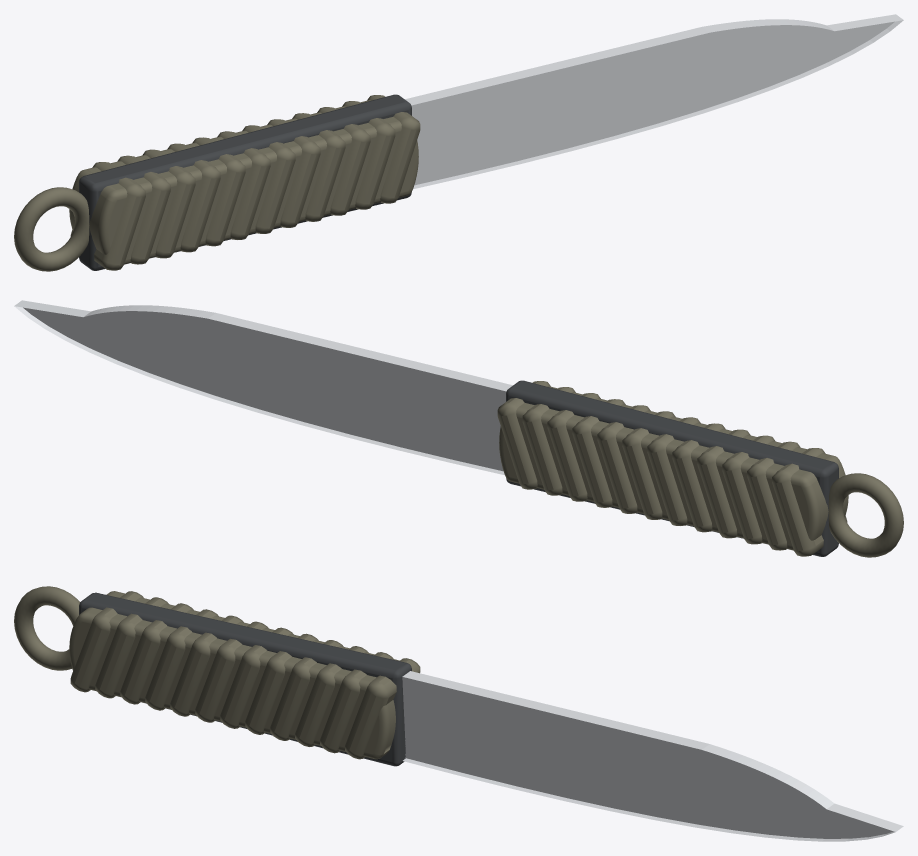
The model's file is knife_cord.glb.
The picture shows the model from 3 angles, top to bottom: view 1: azimuth 30°, elevation 25°; view 2: azimuth 150°, elevation 25°; view 3: azimuth 330°, elevation 25°; orthographic projection.
Parts seen in each view (by area): view 1: blade, handle, tang, lanyard, wrap0, wrap1, wrap2, wrap3, wrap4, wrap5, wrap6, wrap7 (+4 smaller); view 2: blade, handle, tang, lanyard, wrap0, wrap1, wrap2, wrap3, wrap4, wrap5, wrap6, wrap7 (+4 smaller); view 3: blade, handle, tang, lanyard, wrap11, wrap0, wrap1, wrap2, wrap3, wrap4, wrap5, wrap6 (+4 smaller).
Boxes of the visible parts, x1=… form: blade: x1=405, y1=14, x2=903, y2=189; handle: x1=69, y1=100, x2=418, y2=264; tang: x1=79, y1=94, x2=411, y2=270; lanyard: x1=14, y1=187, x2=89, y2=271; wrap0: x1=70, y1=162, x2=145, y2=270; wrap1: x1=117, y1=155, x2=170, y2=264; wrap2: x1=142, y1=149, x2=195, y2=258; wrap3: x1=167, y1=143, x2=220, y2=252; wrap4: x1=192, y1=137, x2=245, y2=246; wrap5: x1=217, y1=131, x2=270, y2=239; wrap6: x1=242, y1=125, x2=295, y2=233; wrap7: x1=267, y1=119, x2=320, y2=227; blade: x1=14, y1=300, x2=512, y2=475; handle: x1=499, y1=386, x2=848, y2=550; tang: x1=506, y1=380, x2=838, y2=556; lanyard: x1=828, y1=473, x2=903, y2=557; wrap0: x1=772, y1=448, x2=847, y2=556; wrap1: x1=747, y1=441, x2=800, y2=550; wrap2: x1=722, y1=435, x2=775, y2=544; wrap3: x1=697, y1=429, x2=750, y2=538; wrap4: x1=672, y1=423, x2=725, y2=532; wrap5: x1=647, y1=417, x2=700, y2=525; wrap6: x1=622, y1=411, x2=675, y2=519; wrap7: x1=597, y1=405, x2=650, y2=513; blade: x1=402, y1=671, x2=903, y2=841; handle: x1=69, y1=591, x2=399, y2=759; tang: x1=79, y1=592, x2=411, y2=766; lanyard: x1=14, y1=586, x2=80, y2=670; wrap11: x1=345, y1=658, x2=420, y2=759; wrap0: x1=70, y1=591, x2=143, y2=692; wrap1: x1=95, y1=597, x2=168, y2=698; wrap2: x1=120, y1=603, x2=193, y2=704; wrap3: x1=145, y1=609, x2=218, y2=710; wrap4: x1=170, y1=615, x2=243, y2=716; wrap5: x1=195, y1=621, x2=268, y2=722; wrap6: x1=220, y1=627, x2=293, y2=728.
Size of the model in its own units: 0.319 by 0.0329 by 0.025.
